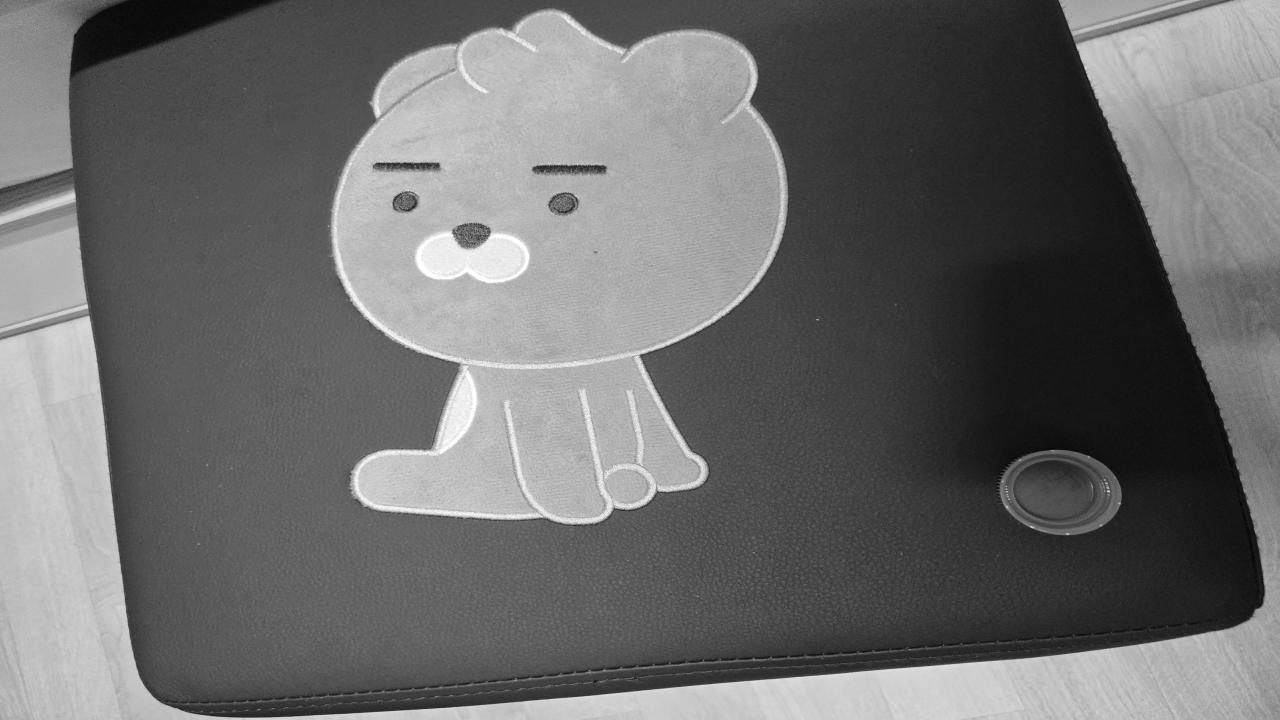bottle_cap: (1003, 454, 1123, 534)
